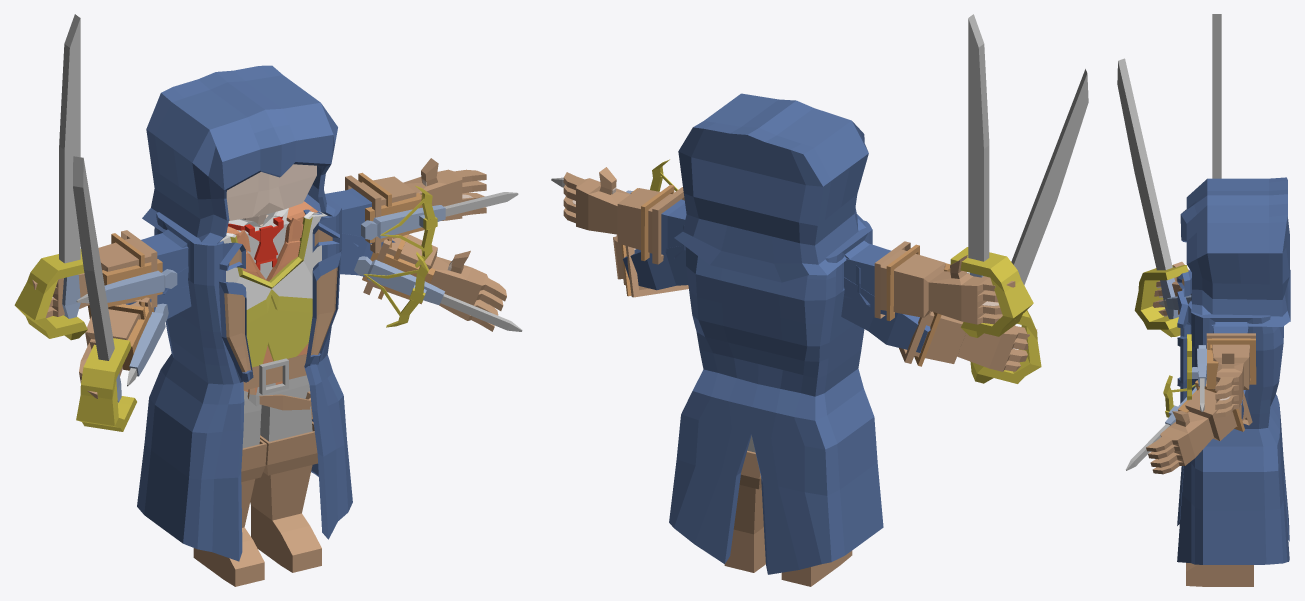
Rendered from Arno Dorian Chibi Asset (2).fbx.
3 renders of one model, left to right at view 1: azimuth 30°, elevation 25°; view 2: azimuth 150°, elevation 25°; view 3: azimuth 270°, elevation 25°, orthographic. The views are drawn at different scales.
Parts seen in each view (by area): view 1: Assassin Robe.001, Assassin Hood.001, Assassin Sword.001, Assassin Boots_L.001, Assassin Sword, Vest Coat.001, Phantom Blade_L.001, Phantom Blade_L, Assassin Glove_L, Assassin Glove_L.001, Arno Dorian.001, Assassin Boots_R.001 (+13 smaller); view 2: Assassin Robe.001, Assassin Hood.001, Assassin Sword.001, Assassin Glove_R.001, Assassin Glove_L.001, Assassin Sword, Assassin Glove_R, Assassin Boots_L.001, Assassin Arm_R, Assassin Arm_L, Assassin Arm_R.001, Phantom Blade_L.001 (+4 smaller); view 3: Assassin Robe.001, Assassin Hood.001, Assassin Sword, Assassin Glove_L, Assassin Glove_L.001, Phantom Blade_L.001, Assassin Sword.001, Assassin Boots_L.001, Phantom Blade_L, Assassin Glove_R, Assassin Arm_L.001, Hidden Blade_R.
Boxes of the visible parts, bbox=[...] form: Assassin Robe.001: bbox=[137, 194, 358, 561]; Assassin Hood.001: bbox=[142, 65, 337, 248]; Assassin Sword.001: bbox=[14, 14, 87, 340]; Assassin Boots_L.001: bbox=[250, 421, 321, 572]; Assassin Sword: bbox=[73, 156, 136, 431]; Vest Coat.001: bbox=[220, 211, 327, 367]; Phantom Blade_L.001: bbox=[358, 172, 518, 267]; Phantom Blade_L: bbox=[354, 234, 522, 331]; Assassin Glove_L: bbox=[363, 234, 506, 331]; Assassin Glove_L.001: bbox=[345, 158, 486, 253]; Arno Dorian.001: bbox=[52, 164, 472, 298]; Assassin Boots_R.001: bbox=[193, 439, 266, 586]; Assassin Robe.001: bbox=[669, 220, 883, 574]; Assassin Hood.001: bbox=[674, 93, 868, 282]; Assassin Sword.001: bbox=[950, 14, 1033, 337]; Assassin Glove_R.001: bbox=[874, 241, 1015, 324]; Assassin Glove_L.001: bbox=[563, 167, 684, 264]; Assassin Sword: bbox=[970, 69, 1088, 383]; Assassin Glove_R: bbox=[899, 311, 1037, 371]; Assassin Boots_L.001: bbox=[724, 450, 765, 572]; Assassin Arm_R: bbox=[841, 277, 930, 352]; Assassin Arm_L: bbox=[623, 245, 688, 290]; Assassin Arm_R.001: bbox=[844, 243, 891, 298]; Phantom Blade_L.001: bbox=[551, 159, 677, 261]; Assassin Robe.001: bbox=[1177, 270, 1289, 564]; Assassin Hood.001: bbox=[1180, 177, 1290, 326]; Assassin Sword: bbox=[1117, 58, 1188, 337]; Assassin Glove_L: bbox=[1146, 377, 1252, 474]; Assassin Glove_L.001: bbox=[1206, 333, 1255, 417]; Phantom Blade_L.001: bbox=[1187, 334, 1256, 411]; Assassin Sword.001: bbox=[1212, 14, 1221, 178]; Assassin Boots_L.001: bbox=[1186, 563, 1253, 586]; Phantom Blade_L: bbox=[1126, 375, 1244, 470]; Assassin Glove_R: bbox=[1152, 261, 1188, 315]; Assassin Arm_L.001: bbox=[1213, 324, 1248, 333]; Hidden Blade_R: bbox=[1159, 287, 1191, 310].
Size of the model in its own units: 921 by 1057 by 344.
